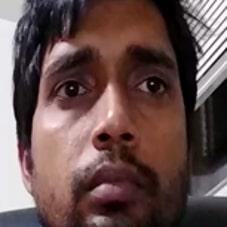drowsy: (41, 43, 178, 208)
